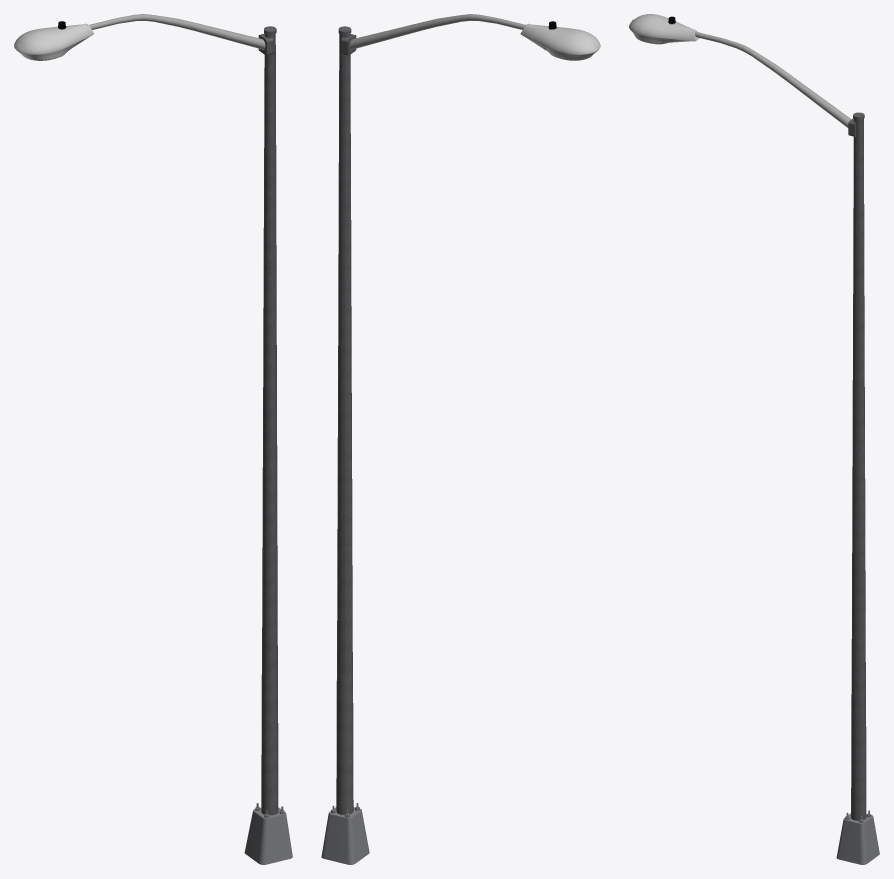
The model's file is bridge_street_light_3.glb.
The picture shows the model from 3 angles, left to right: view 1: azimuth 30°, elevation 25°; view 2: azimuth 150°, elevation 25°; view 3: azimuth 330°, elevation 25°; orthographic projection. The views are drawn at different scales.
Parts seen in each view (by area): view 1: Material2 (×4); view 2: Material2 (×4); view 3: Material2 (×4).
Part boxes in pixels (left/top/right/bottom): Material2 (×4): left=14, top=14, right=292, bottom=864; Material2 (×4): left=321, top=14, right=600, bottom=864; Material2 (×4): left=629, top=14, right=879, bottom=864.
Size of the model in its own units: 132 by 415 by 18.93.
Materials: 27 (8 with a texture image).
